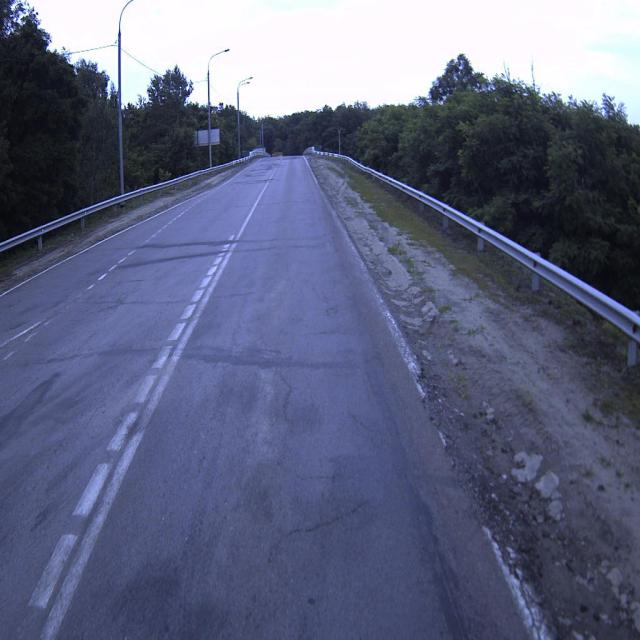road: (0, 156, 541, 639)
